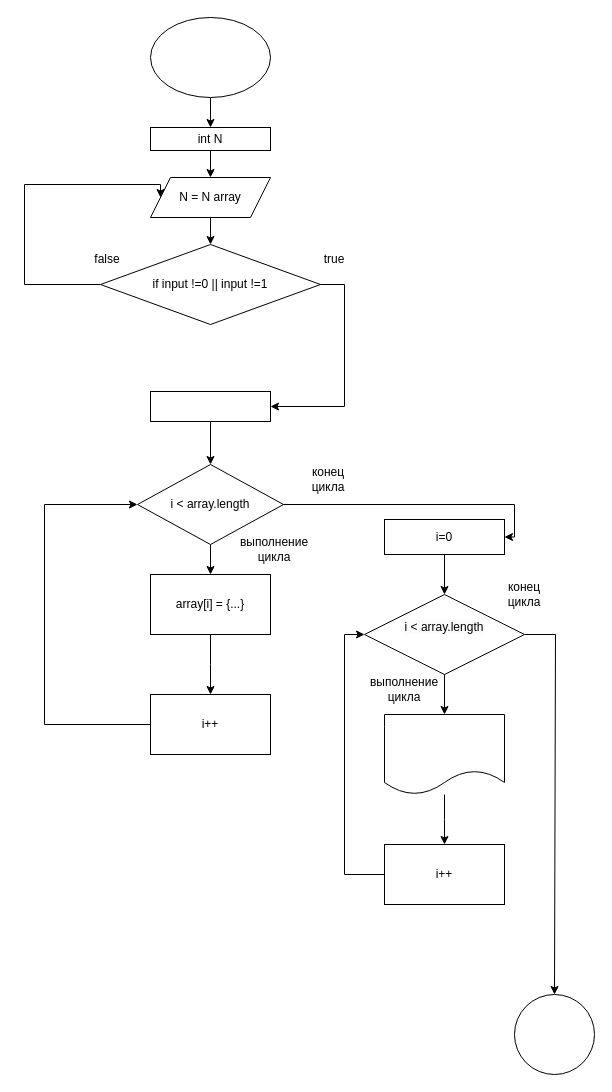
This 612x1092 diagram has some shape labels left out. The shapes that lost their labels are listed below. From the top down, each one's centre as x and y in pixels, then its label:
At point (210, 57): "start".
At point (210, 406): "i = 0".
At point (444, 754): "print[i]".
At point (554, 1034): "end".
